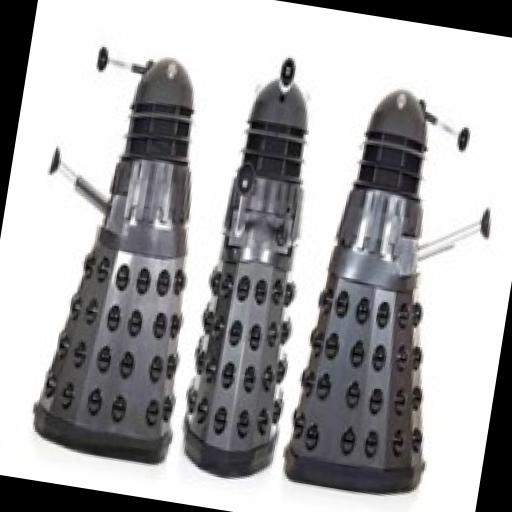dalek: (278, 75, 512, 510), (0, 37, 233, 469), (174, 46, 336, 484)
